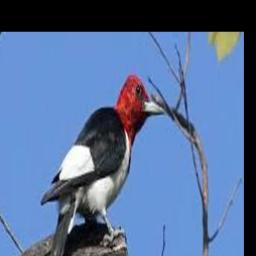Woodpecker: (41, 74, 165, 256)
